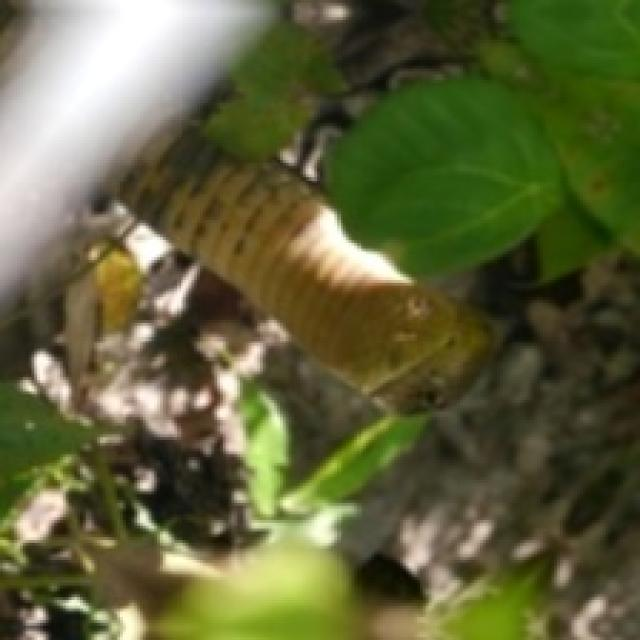king cobra: (0, 0, 491, 409)
